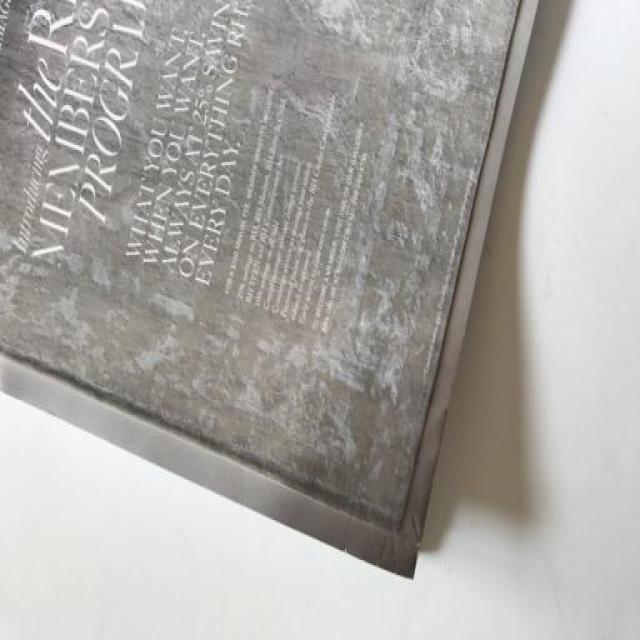paper: (0, 0, 546, 580)
